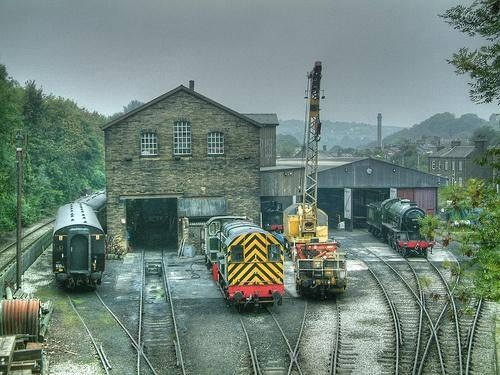train: (287, 63, 350, 295), (204, 214, 285, 304), (52, 186, 106, 285), (368, 195, 436, 256)
